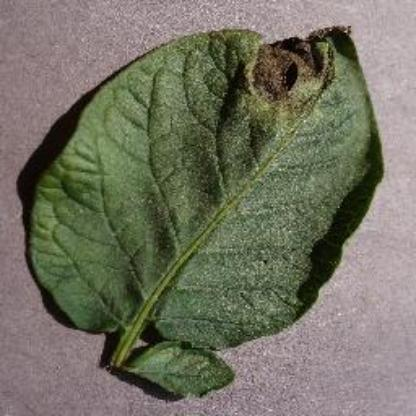Late-Blight: (27, 24, 387, 398)
